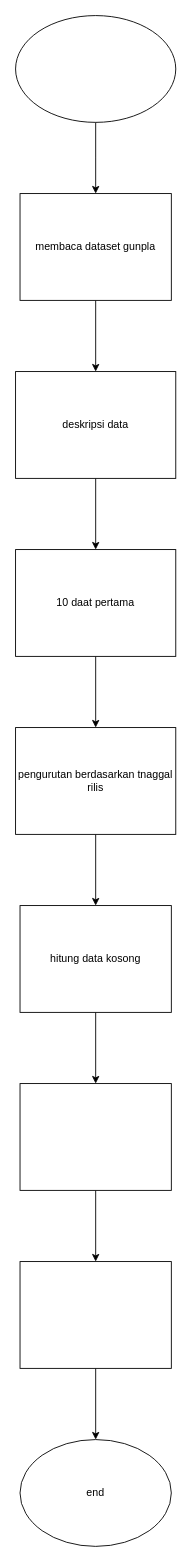
The diagram is 191 pixels wide and 1562 high, and some of its shapes have lost their labels. The box of each missing label's shape, as (x1, y1, x2, y2) in pixels:
start: (15, 15, 176, 122)
visualisasi 1 (histogram): (19, 1083, 171, 1190)
visualisasi 2 (pie chart): (19, 1261, 171, 1368)
